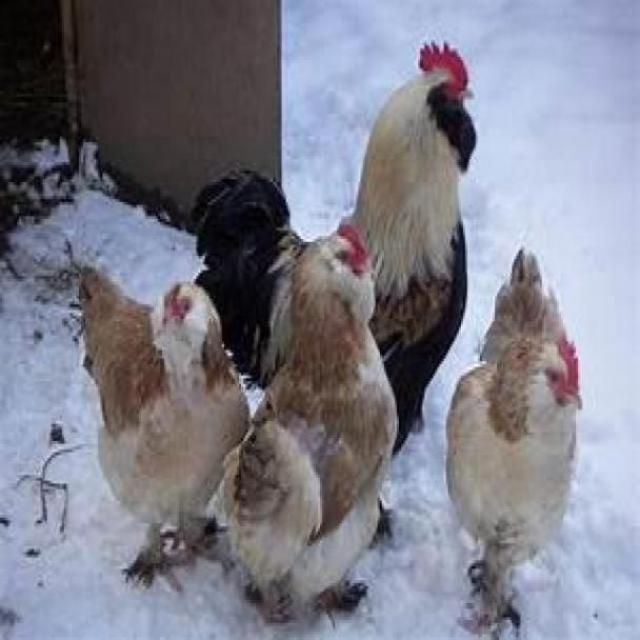Chicken: (183, 40, 480, 458), (207, 225, 401, 623), (77, 267, 252, 592), (444, 245, 585, 629)
